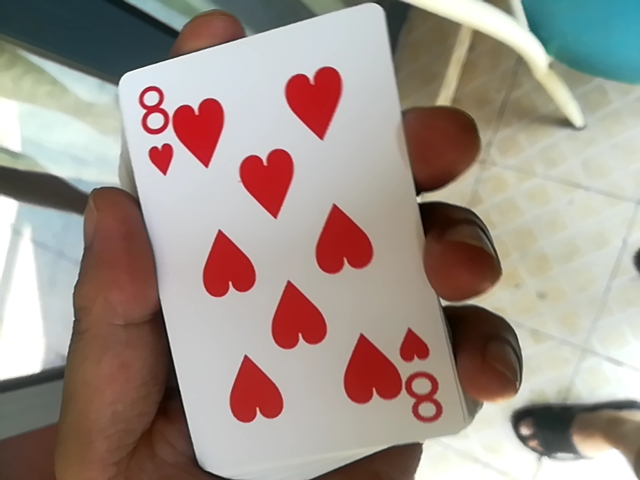hx 8: (98, 15, 433, 471)
